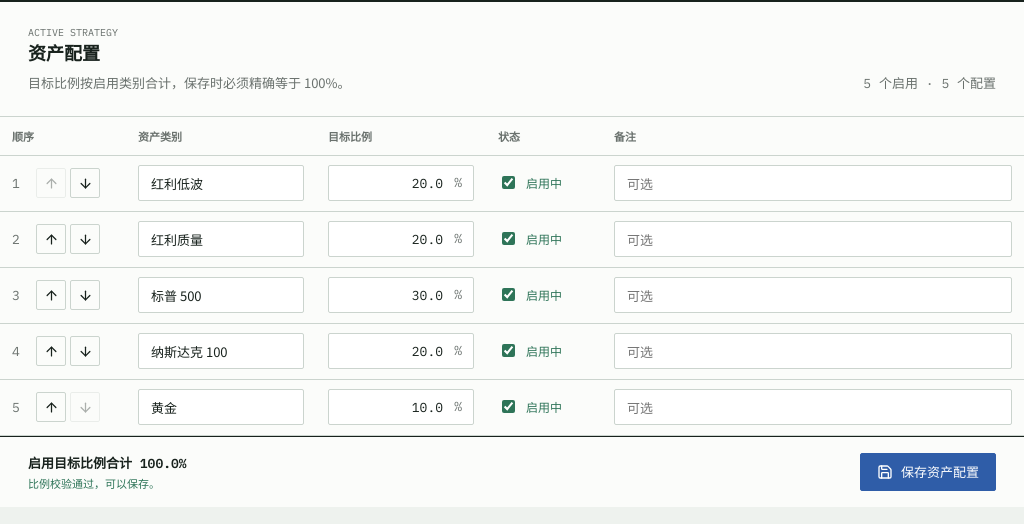
Test: AssetClassEditor › blocks saving and explains an exact deficit
Replace the text in the 2nd field named "红利低波目标比例" with "10" at {"x": 401, "y": 183}, box left=328, top=165, right=474, bottom=201
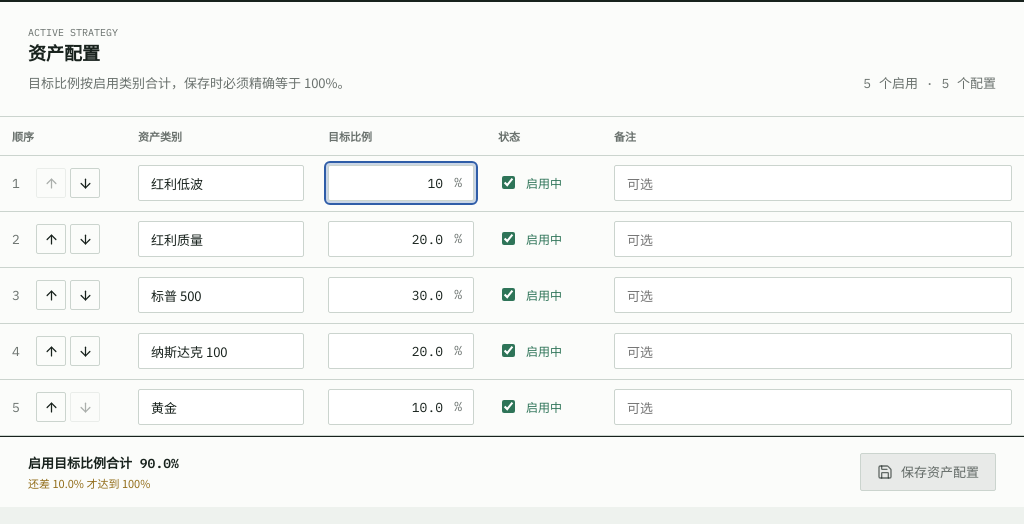
expect the button "保存资产配置" is disabled: met, box left=860, top=452, right=996, bottom=490
expect the text "还差 10.0% 才达到 100%" is shown: met, box left=28, top=474, right=150, bottom=490
